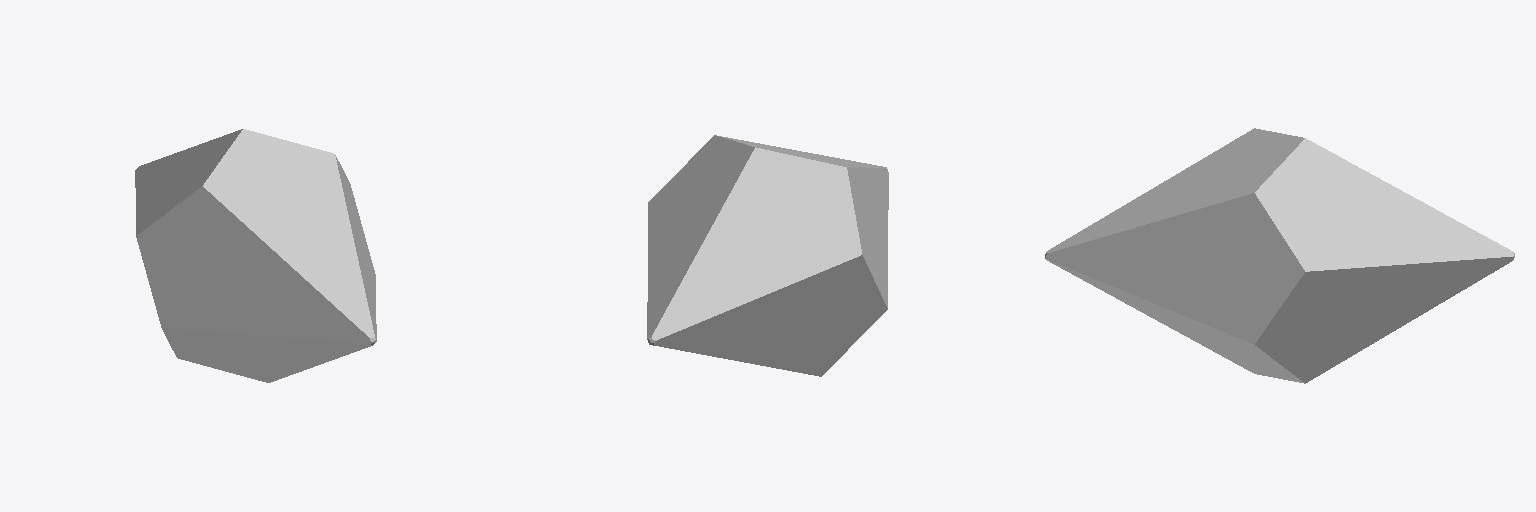
The model's file is cpu_core.obj.
3 renders of one model, left to right at view 1: azimuth 30°, elevation 25°; view 2: azimuth 150°, elevation 25°; view 3: azimuth 270°, elevation 25°, orthographic.
Bounding box in the file's own units: 4.68 × 4.92 × 8.9.